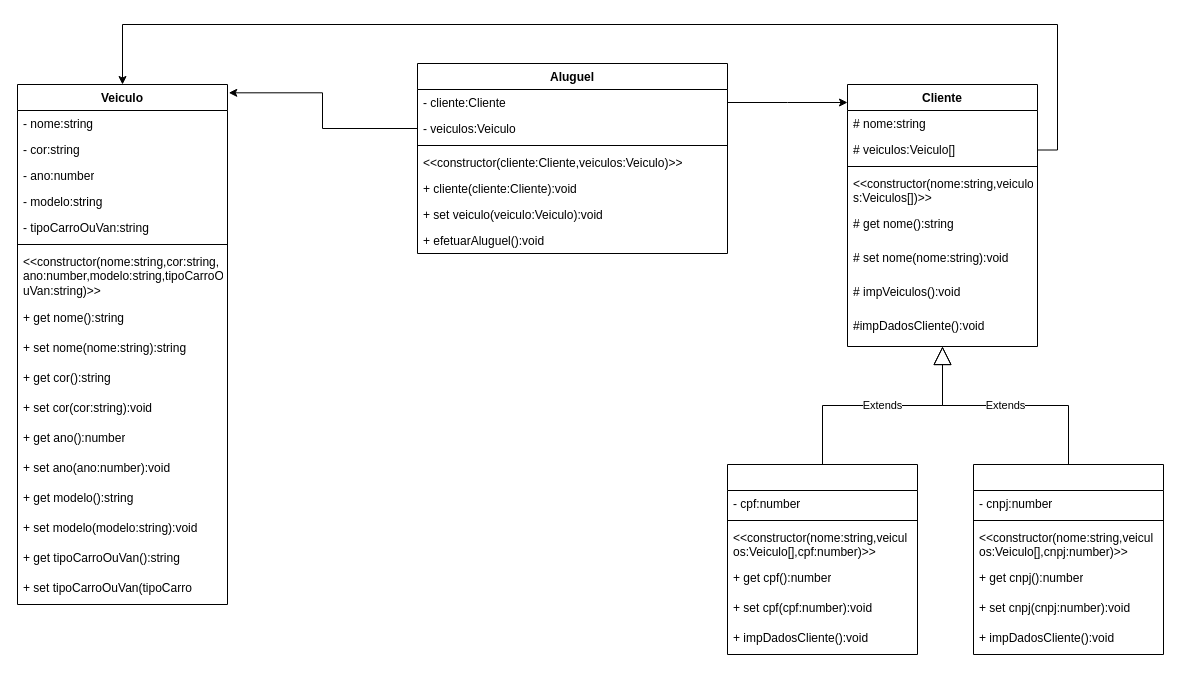
Some shapes in this 1181 by 675 pixel diagram are drawn without their labels. Each missing label, with the box of its shape:
Empresa: (972, 464, 1164, 654)
PessoaF: (726, 464, 918, 654)
